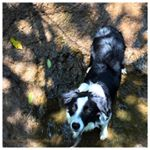puppy: (64, 24, 127, 142)
